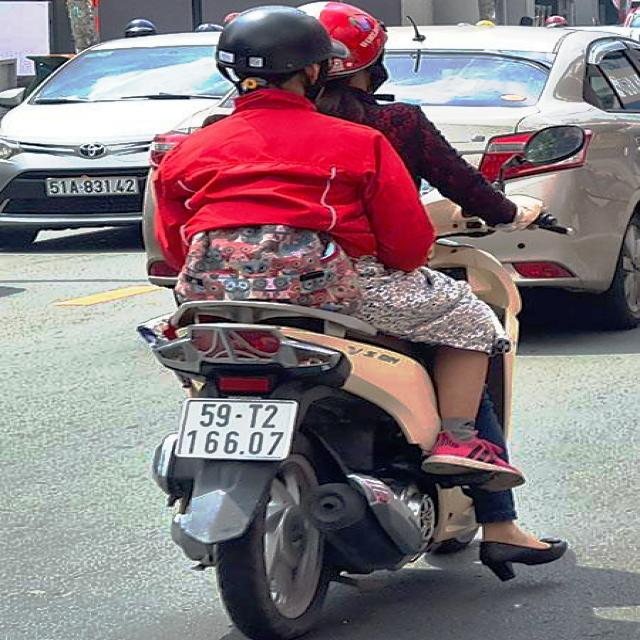license_plate: (173, 397, 299, 461), (46, 176, 141, 197)
